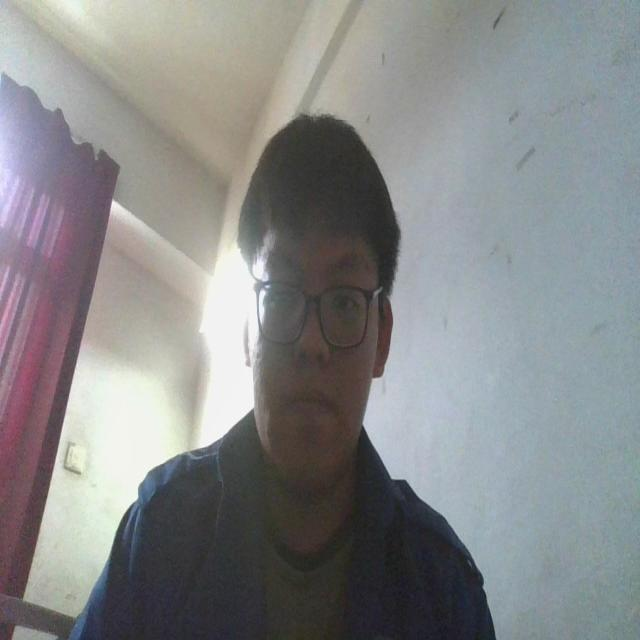person_with_labcoat: (70, 115, 494, 639)
